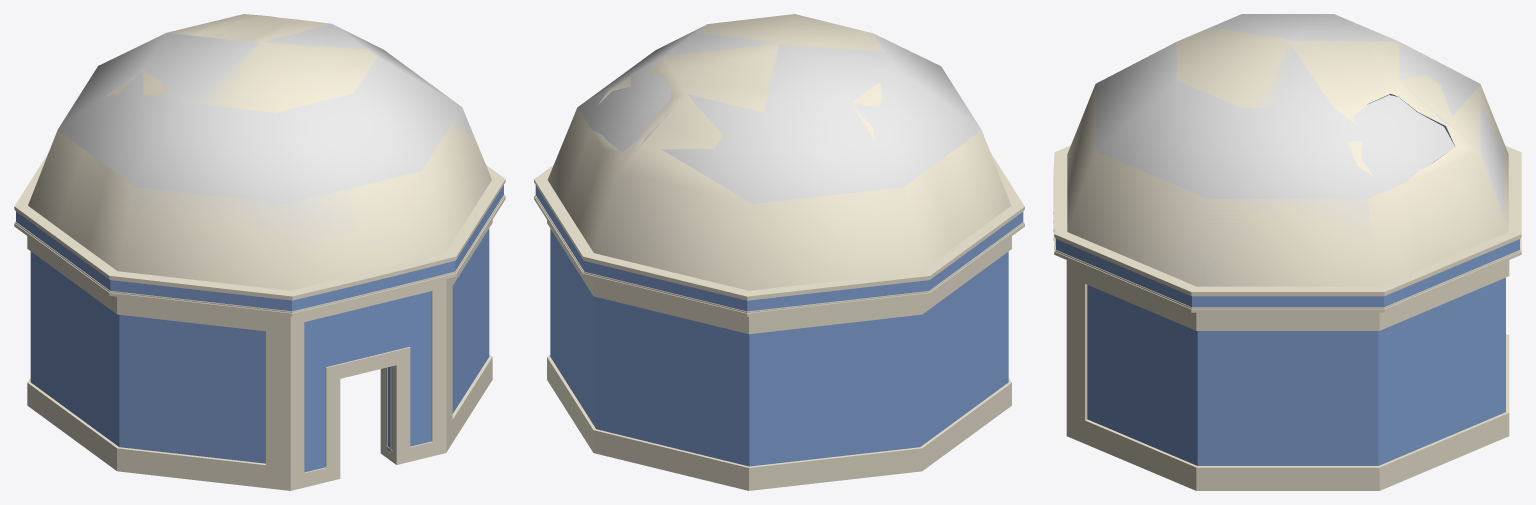
File: P_LoopHouse.fbx
The picture shows the model from 3 angles, left to right: view 1: azimuth 30°, elevation 25°; view 2: azimuth 150°, elevation 25°; view 3: azimuth 270°, elevation 25°; orthographic projection. The views are drawn at different scales.
Visible parts, largest first — view 1: P_LoopHouse, P_RoofLoop_cut, P_RoofLoop_Full; view 2: P_LoopHouse, P_RoofLoop_cut, P_RoofLoop_Full; view 3: P_LoopHouse, P_RoofLoop_cut, P_RoofLoop_Full.
Boxes of the visible parts, bbox=[...] form: P_LoopHouse: bbox=[14, 152, 505, 490]; P_RoofLoop_cut: bbox=[28, 14, 491, 290]; P_RoofLoop_Full: bbox=[58, 23, 473, 284]; P_LoopHouse: bbox=[534, 153, 1024, 490]; P_RoofLoop_cut: bbox=[547, 14, 1011, 290]; P_RoofLoop_Full: bbox=[577, 24, 981, 288]; P_LoopHouse: bbox=[1053, 145, 1521, 490]; P_RoofLoop_cut: bbox=[1067, 14, 1508, 286]; P_RoofLoop_Full: bbox=[1070, 14, 1504, 286].
Bounding box in the file's own units: 896 × 755 × 898.
